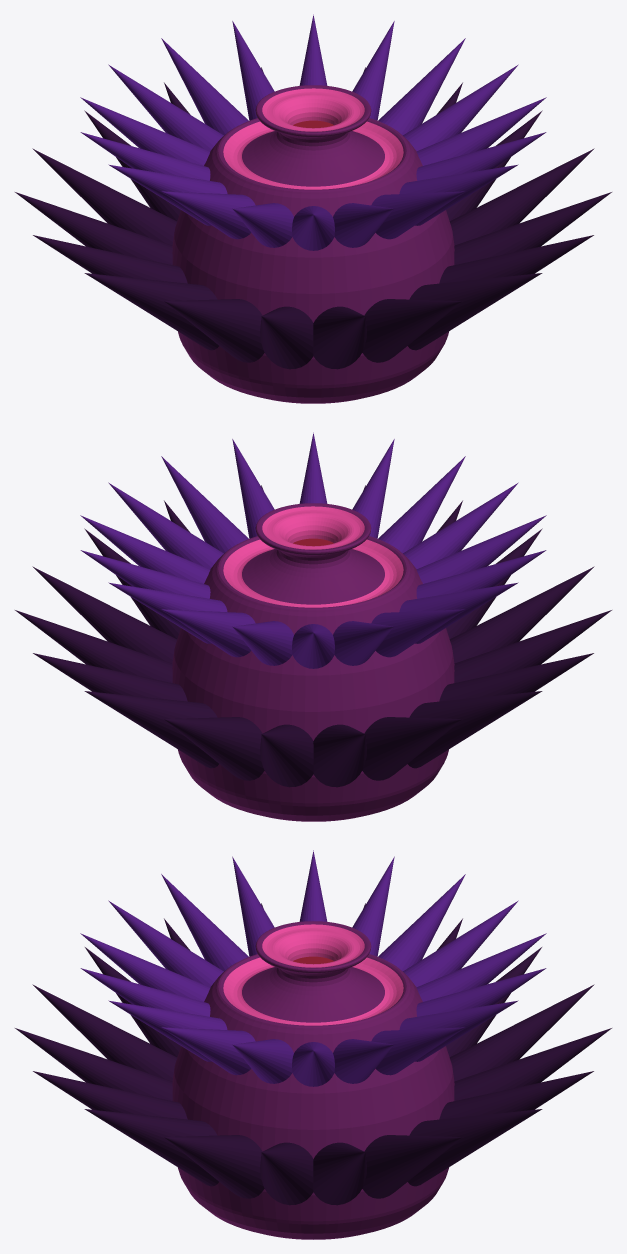
File: RepellShroom.fbx
The picture shows the model from 3 angles, top to bottom: view 1: azimuth 30°, elevation 25°; view 2: azimuth 150°, elevation 25°; view 3: azimuth 270°, elevation 25°; orthographic projection.
Parts seen in each view (by area): view 1: Cylinder, Cone.034, Cone.035; view 2: Cylinder, Cone.034, Cone.035; view 3: Cylinder, Cone.034, Cone.035.
Boxes of the visible parts, x1=… form: Cylinder: x1=172, y1=85, x2=454, y2=403; Cone.034: x1=15, y1=67, x2=611, y2=369; Cone.035: x1=80, y1=14, x2=546, y2=250; Cylinder: x1=172, y1=503, x2=454, y2=821; Cone.034: x1=15, y1=485, x2=611, y2=787; Cone.035: x1=80, y1=432, x2=546, y2=668; Cylinder: x1=172, y1=921, x2=454, y2=1239; Cone.034: x1=15, y1=903, x2=611, y2=1205; Cone.035: x1=80, y1=850, x2=546, y2=1086.
Bounding box in the file's own units: 1007 × 479 × 1022.
